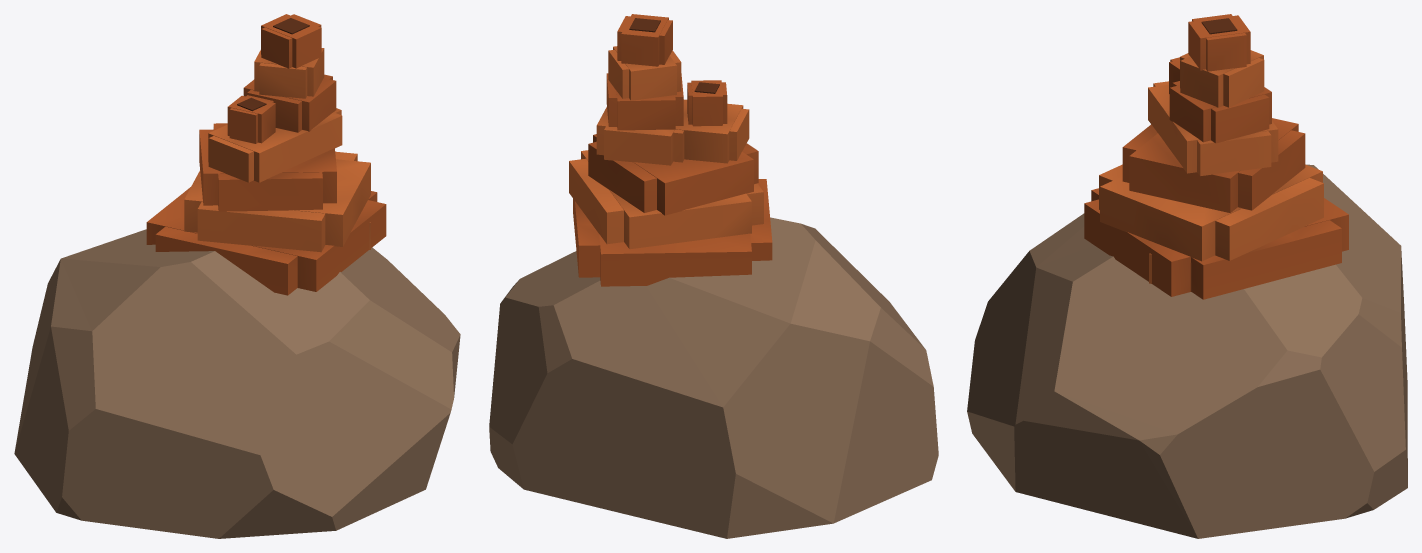
File: AnthillBoulder.fbx
3 views of the same model, side by side, from view 1: azimuth 30°, elevation 25°; view 2: azimuth 150°, elevation 25°; view 3: azimuth 270°, elevation 25° (orthographic). The views are drawn at different scales.
Visible parts, largest first — view 1: AnthillBoulder, AnthillBoulder_Mound; view 2: AnthillBoulder, AnthillBoulder_Mound; view 3: AnthillBoulder, AnthillBoulder_Mound.
Part boxes in pixels (<box>): AnthillBoulder: <box>14,229,460,538</box>; AnthillBoulder_Mound: <box>146,14,386,295</box>; AnthillBoulder: <box>489,217,938,538</box>; AnthillBoulder_Mound: <box>569,14,772,286</box>; AnthillBoulder: <box>967,164,1407,538</box>; AnthillBoulder_Mound: <box>1084,14,1348,299</box>.
Size of the model in its own units: 23.79 by 23.11 by 20.79.
